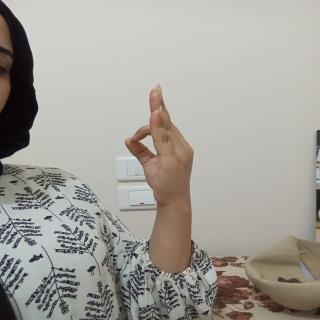Space: (123, 83, 200, 210)
